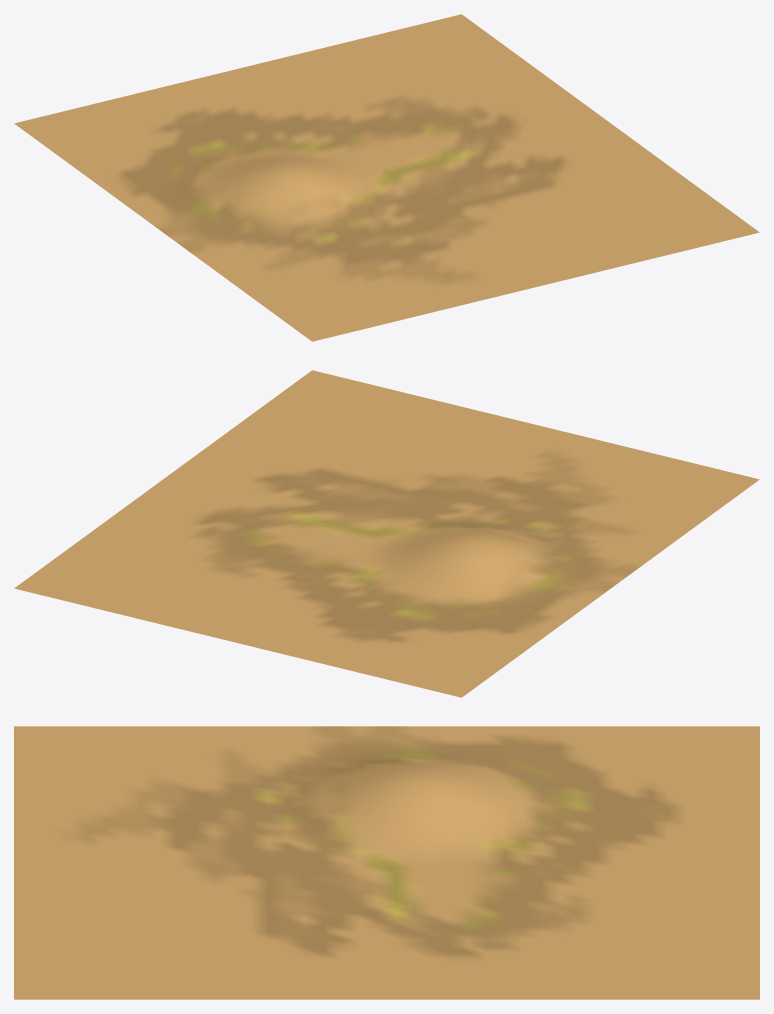
File: Level3(night).fbx
3 views of the same model, one above another, from view 1: azimuth 30°, elevation 25°; view 2: azimuth 150°, elevation 25°; view 3: azimuth 270°, elevation 25° (orthographic). The views are drawn at different scales.
Visible parts, largest first — view 1: Plane; view 2: Plane; view 3: Plane.
Boxes of the visible parts, x1,y1,x2,y2 form: Plane: (14, 14, 759, 341); Plane: (14, 370, 759, 697); Plane: (14, 726, 759, 999).
Size of the model in its own units: 4684 by 5405 by 198.
